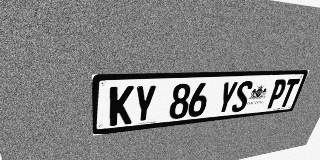6: (187, 82, 211, 118)
8: (168, 83, 193, 120)
K: (109, 86, 134, 126)
P: (265, 79, 288, 109)
S: (230, 81, 254, 113)
T: (278, 79, 300, 107)
Y: (132, 85, 157, 124), (215, 81, 239, 114)
